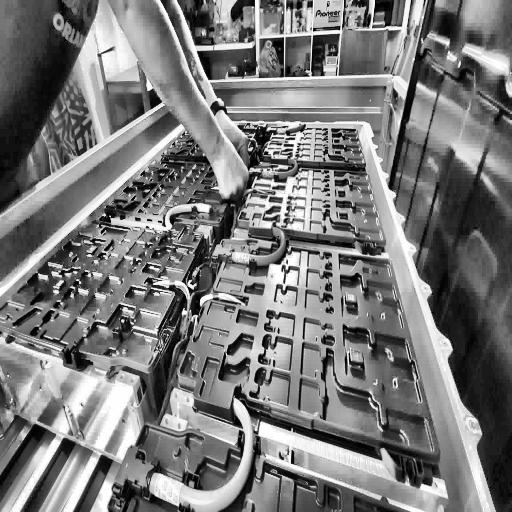high_volt_cable: (154, 388, 254, 512), (233, 225, 290, 270), (164, 200, 213, 230), (260, 157, 300, 184), (275, 122, 308, 136)
low_volt_cable: (154, 129, 270, 377)
